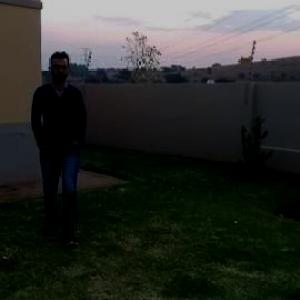follow: (28, 48, 90, 229)
